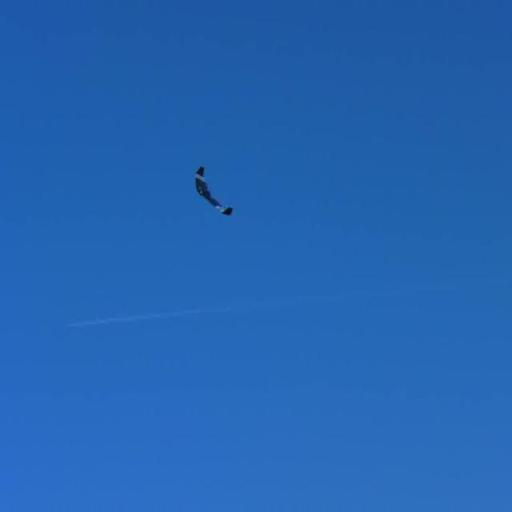uav: (191, 161, 238, 224)
